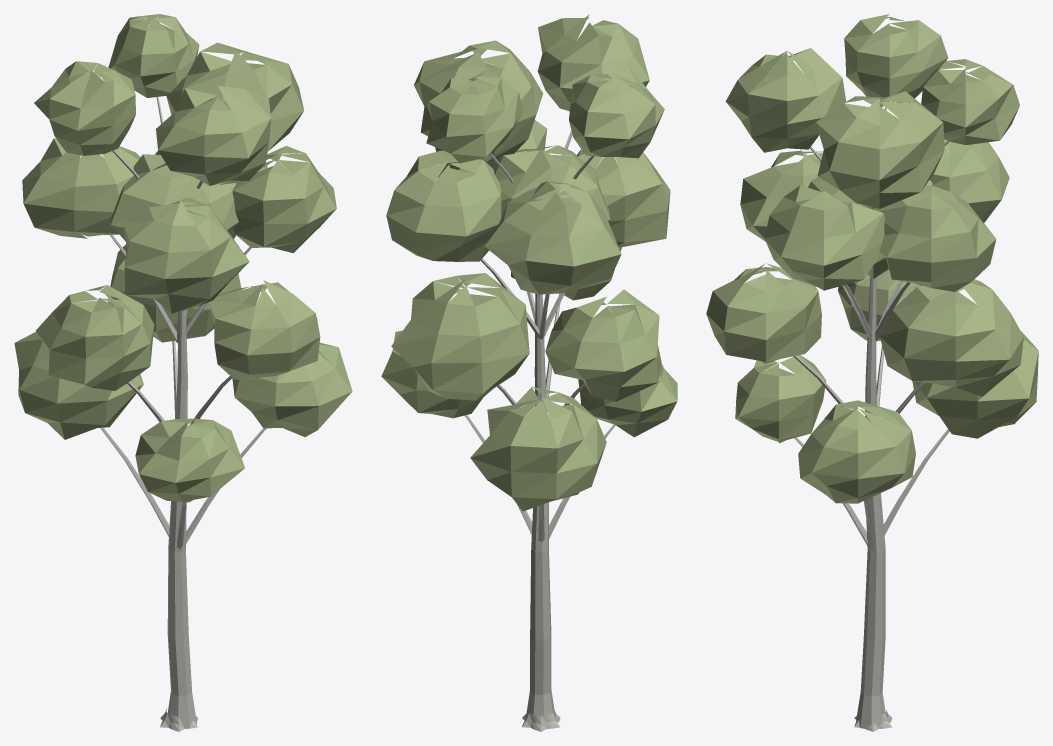
Rendered from ash.glb.
3 views of the same model, side by side, from view 1: azimuth 30°, elevation 25°; view 2: azimuth 150°, elevation 25°; view 3: azimuth 270°, elevation 25° (orthographic).
Visible parts, largest first — view 1: common-ash-mature; view 2: common-ash-mature; view 3: common-ash-mature.
Part boxes in pixels (x1,y1,x2,y2): common-ash-mature: (14, 14, 352, 731); common-ash-mature: (381, 14, 677, 731); common-ash-mature: (706, 14, 1038, 731).
Bounding box in the file's own units: 11.03 × 25.47 × 11.46.
